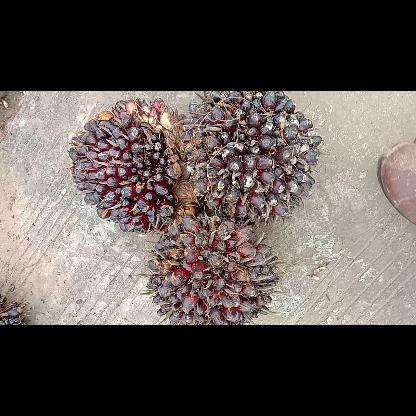TBS mentah: (179, 90, 323, 222), (66, 95, 202, 233), (145, 216, 281, 324)
